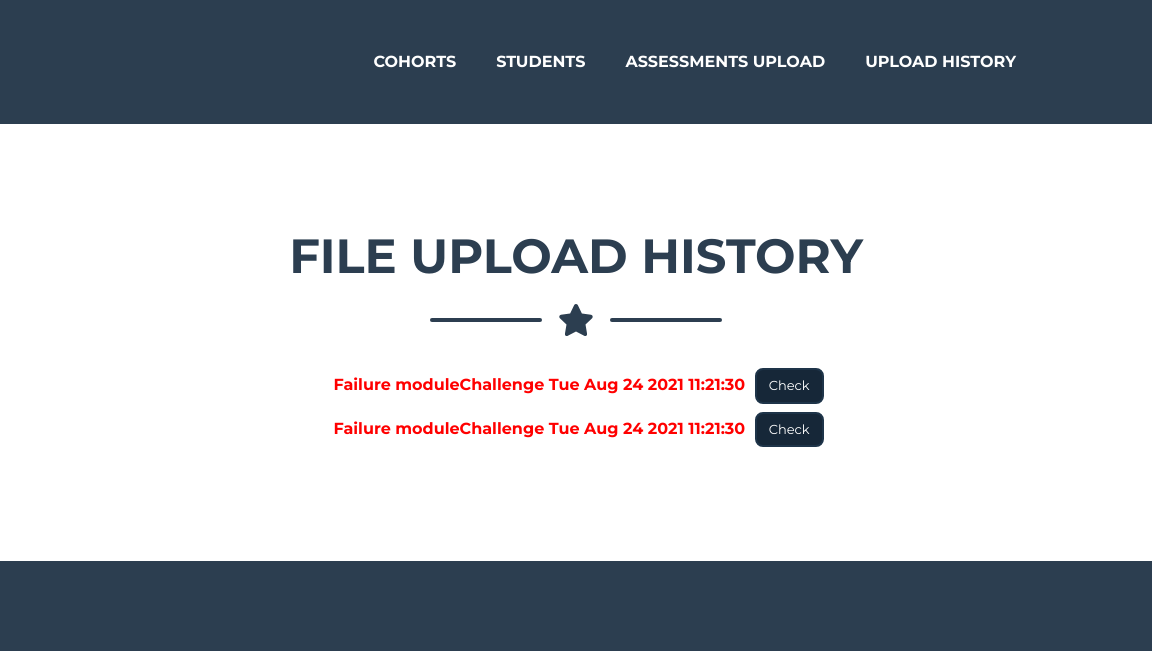
Test: File upload page › Press check to display error info
Click the 1st button "Check": (790, 386) [755,368,824,404]
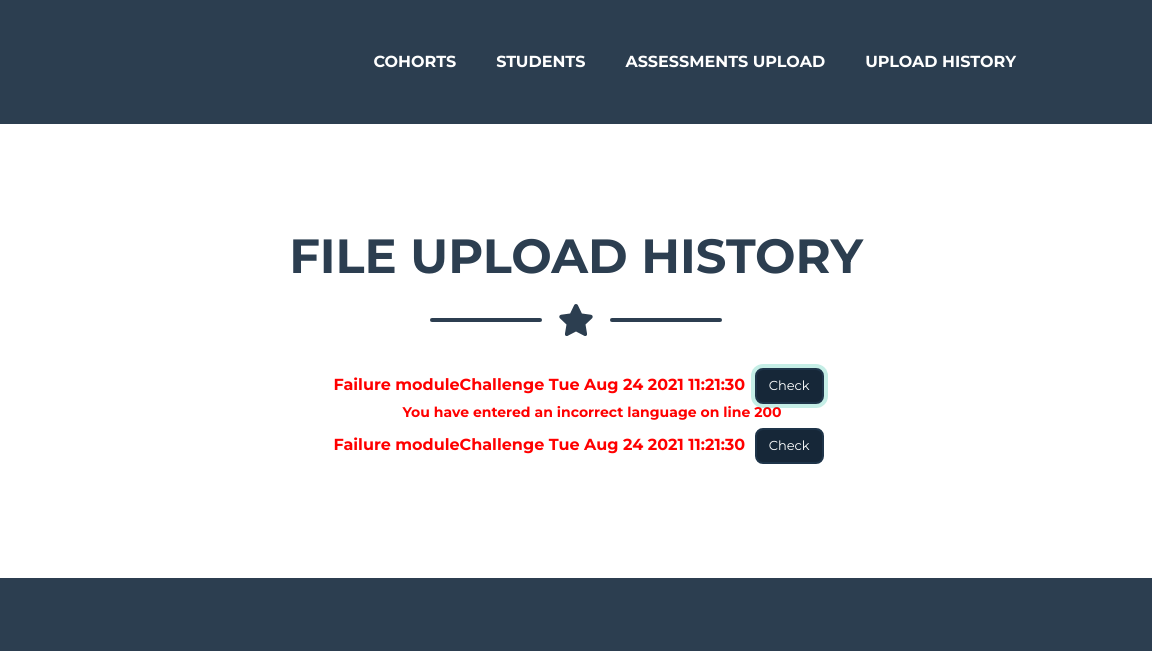
Expected: the list item "You have entered an incorrect language on line 200" is shown, [402,402,782,420]
